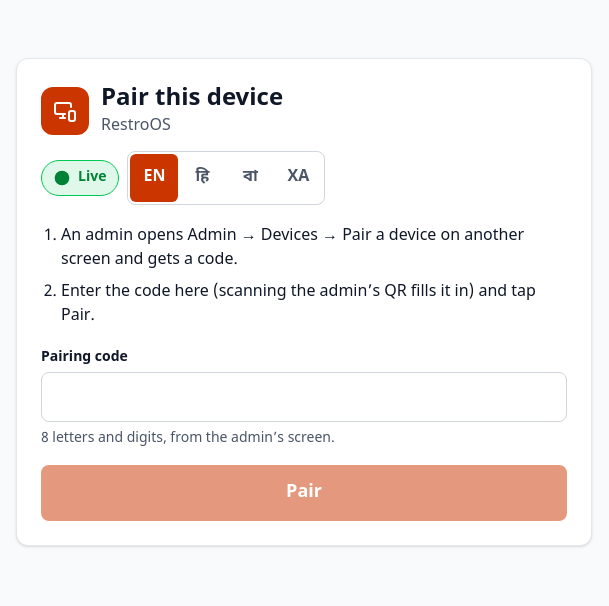
Pairing page › explains a wrong or expired code
Type "zz99zz99" into the field labelled "Pairing code" at (304,397), box left=41, top=372, right=567, bottom=422
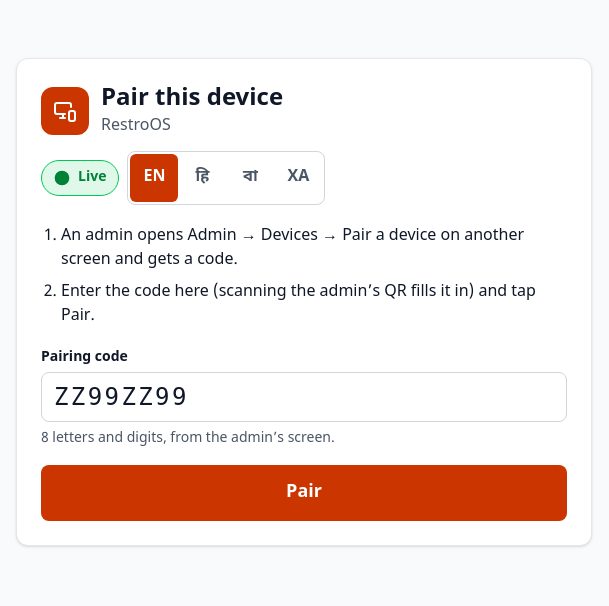
Click the button "Pair" at (304,493), box left=41, top=465, right=567, bottom=521
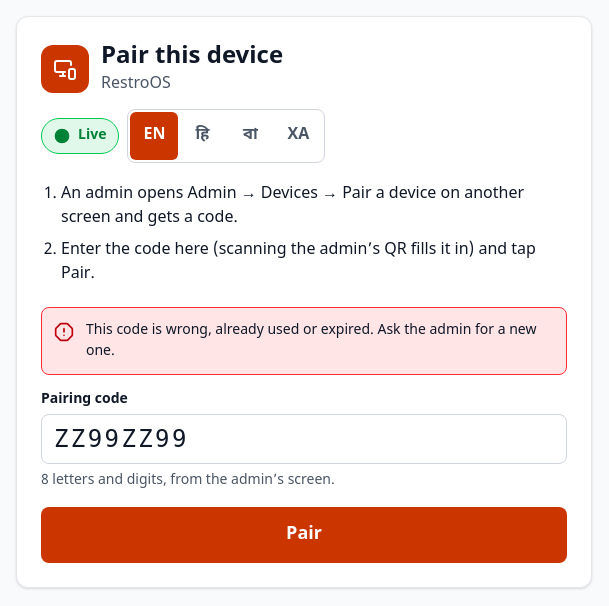
expect the message "This code is wrong, already used or expired. Ask the admin for a new one." is shown: met, box left=41, top=307, right=567, bottom=375
